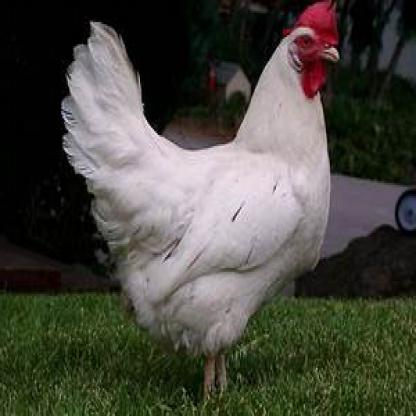chicken: (62, 2, 340, 394)
